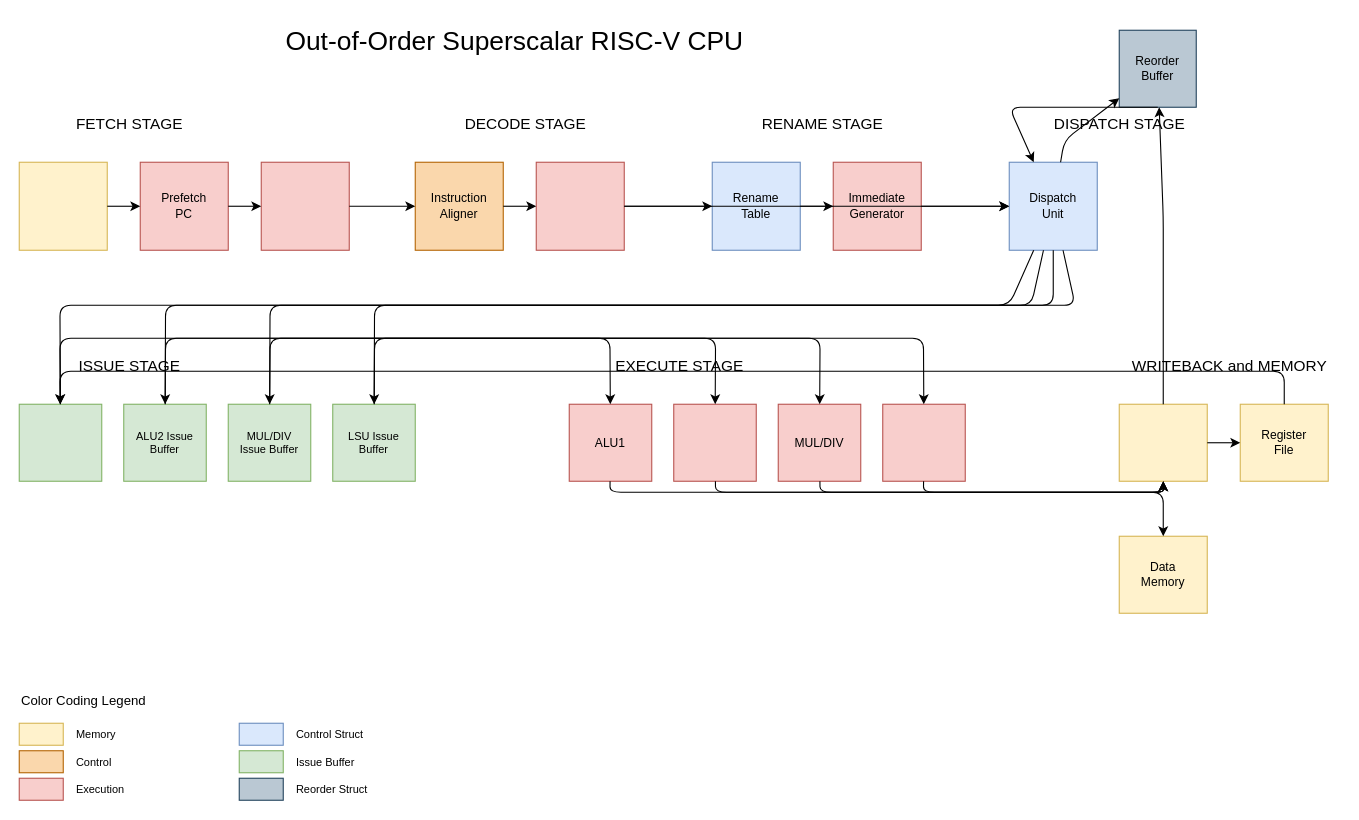
The diagram is 1359 pixels wide and 820 high, and some of its shapes have lost their labels. The shapes that lost their labels are listed below. From the top down, each one's box as (x1, y1, x2, y2) in pixels, then its label:
(18, 161, 107, 250): Instruction Memory
(260, 161, 349, 250): Fetch Buffer
(535, 161, 624, 250): Instruction Decoder
(18, 403, 102, 481): ALU1 Issue Buffer
(673, 403, 756, 481): ALU2
(882, 403, 965, 481): AGU
(1118, 403, 1207, 481): Common Data Bus (CDB)
